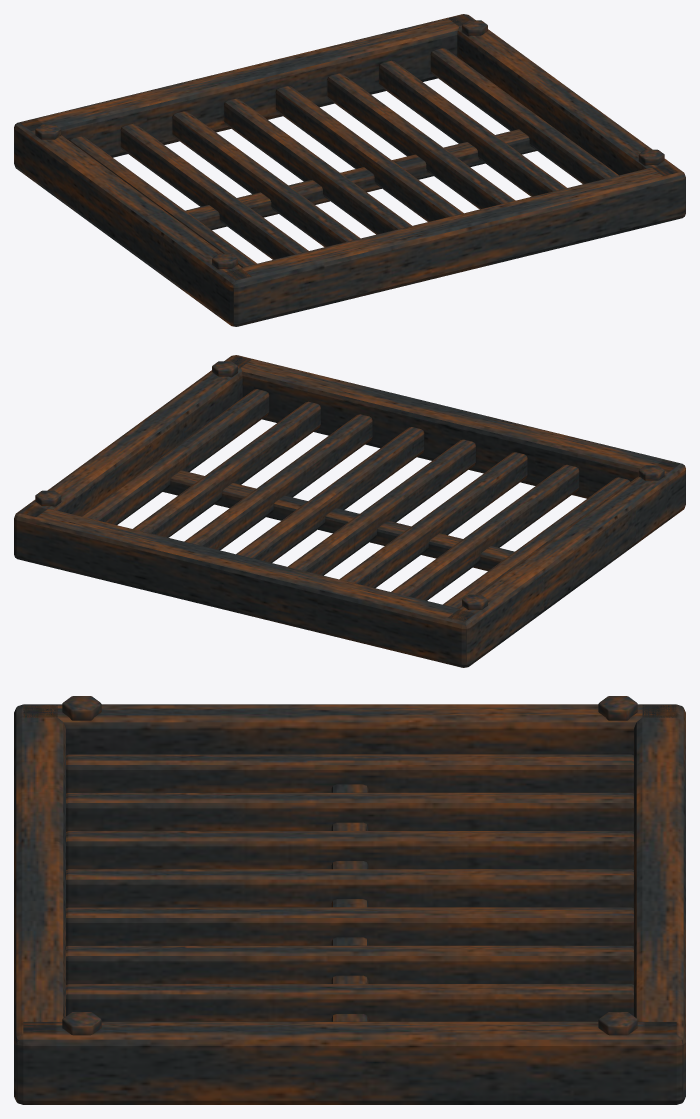
File: drain-grate.glb
3 views of the same model, one above another, from view 1: azimuth 30°, elevation 25°; view 2: azimuth 150°, elevation 25°; view 3: azimuth 270°, elevation 25° (orthographic). The views are drawn at different scales.
Visible parts, largest first — view 1: drain-grate; view 2: drain-grate; view 3: drain-grate.
Part boxes in pixels (x1,y1,x2,y2): drain-grate: (14, 14, 685, 326); drain-grate: (14, 355, 685, 667); drain-grate: (14, 696, 685, 1104).
Size of the model in its own units: 0.476 by 0.052 by 0.401.
1 material, 1 textured.
